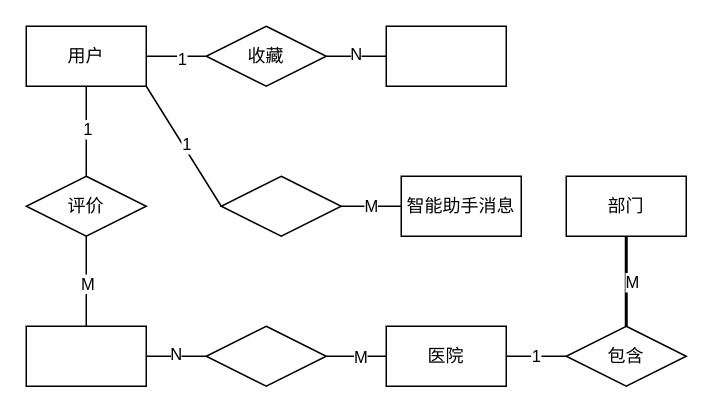
Image size: 713x413. Some labels were removed from this diagram. Each missing label, with the centre of its shape:
偏好: point 445,55
发送: point 280,205
被评价: point 265,355
评分: point 85,355
